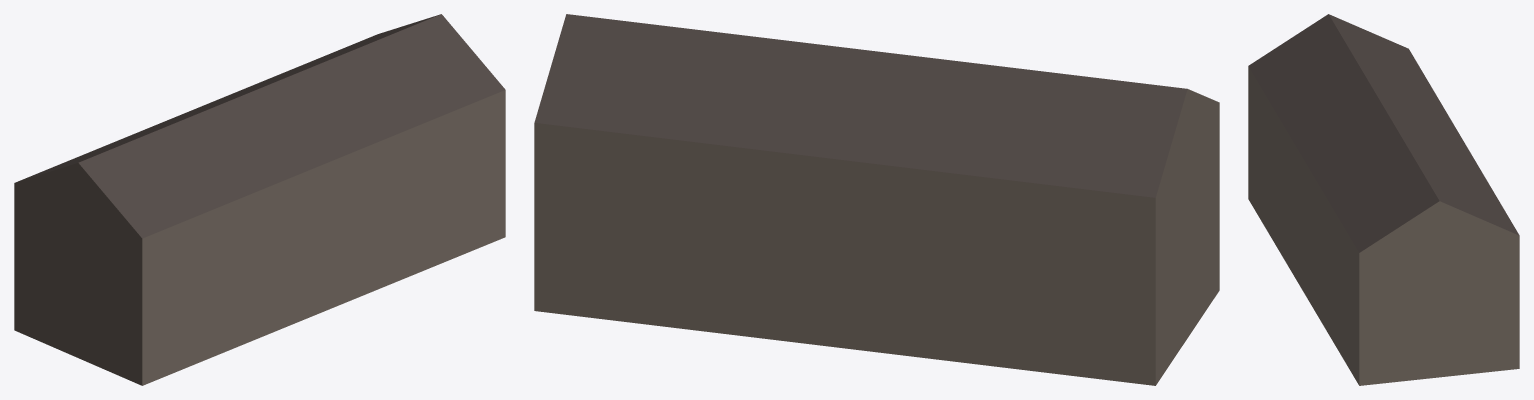
3 renders of one model, left to right at view 1: azimuth 30°, elevation 25°; view 2: azimuth 150°, elevation 25°; view 3: azimuth 270°, elevation 25°, orthographic. The views are drawn at different scales.
Visible parts, largest first — view 1: HP-w1331393452; view 2: HP-w1331393452; view 3: HP-w1331393452.
Part boxes in pixels (x1,y1,x2,y2): HP-w1331393452: (14,14,505,385); HP-w1331393452: (534,14,1219,385); HP-w1331393452: (1248,14,1519,385).
Bounding box in the file's own units: 29.66 × 11.94 × 16.66.
